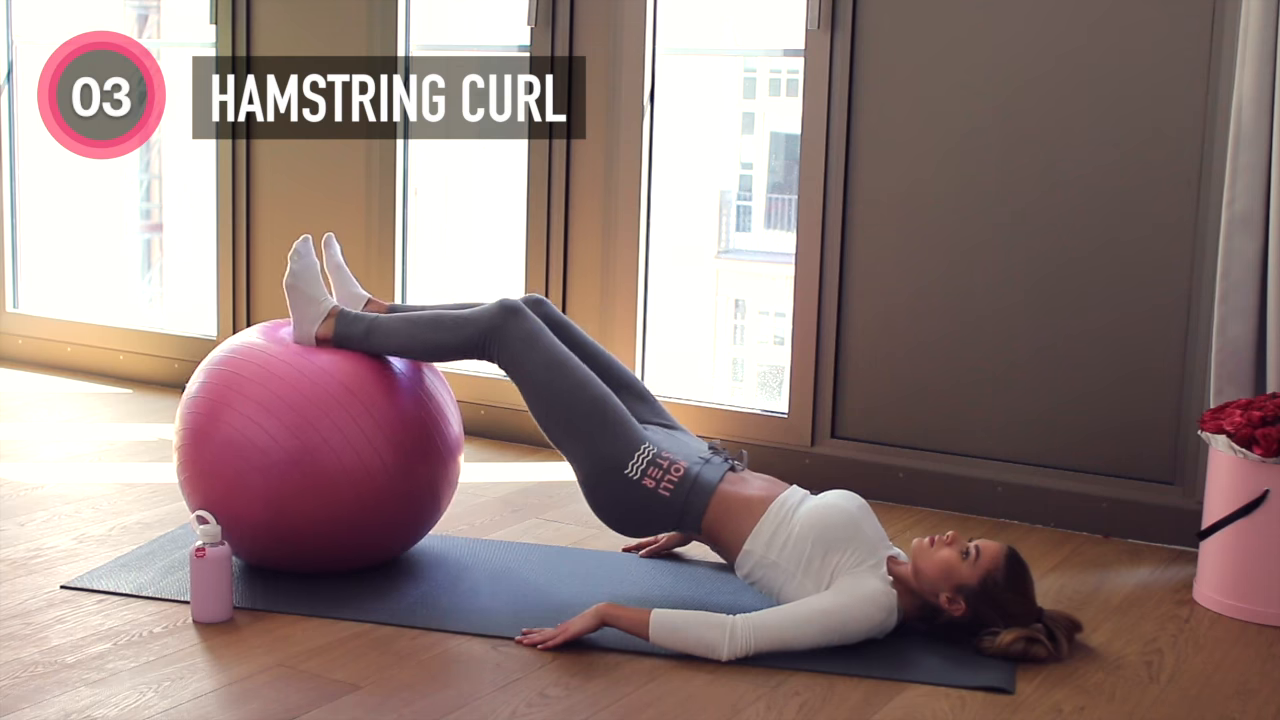yogaball: (162, 311, 471, 583)
